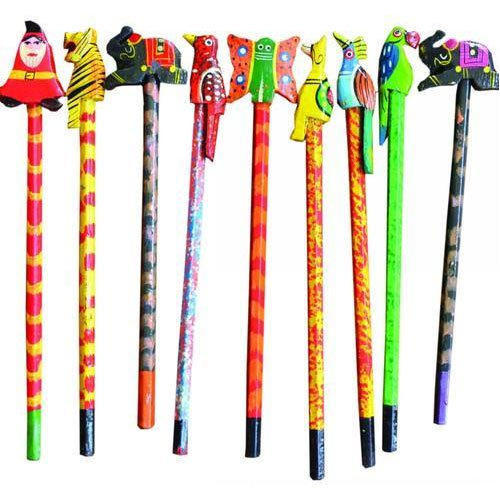pencil: (419, 22, 495, 430), (1, 18, 66, 464)
